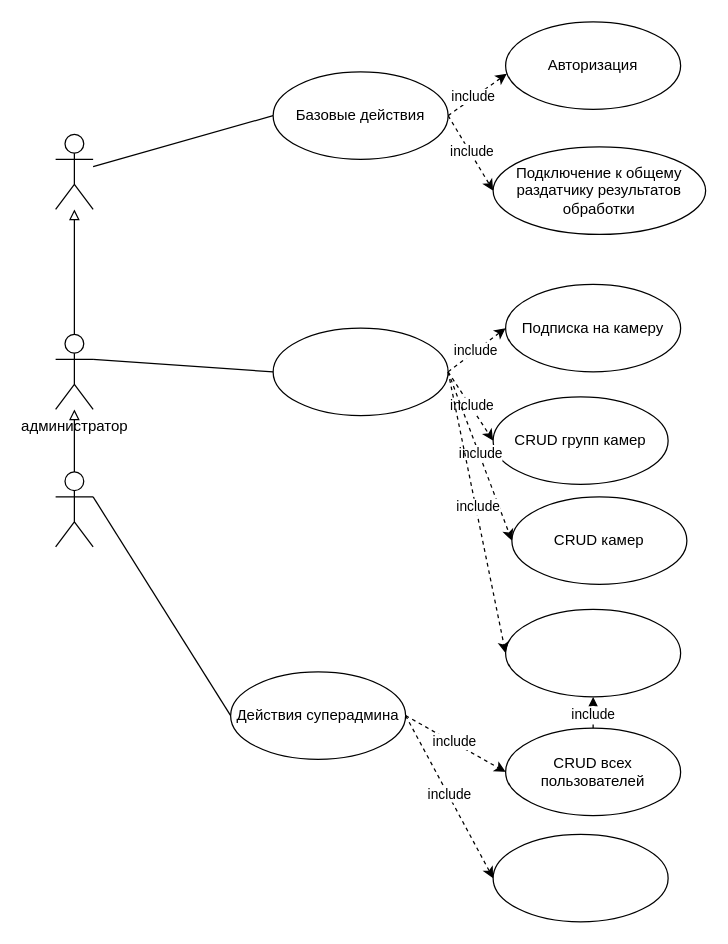
This 728x944 diagram has some shape labels left out. The shapes that lost their labels are listed below. From the top down, each one's centre as x and y in pixels, then its label:
At pixel 73 171: "сервис".
At pixel 360 371: "Действия администратора".
At pixel 73 509: "суперадмин".
At pixel 592 652: "CRUD пользователей - сервисов".
At pixel 580 877: "CRUD сессий".
